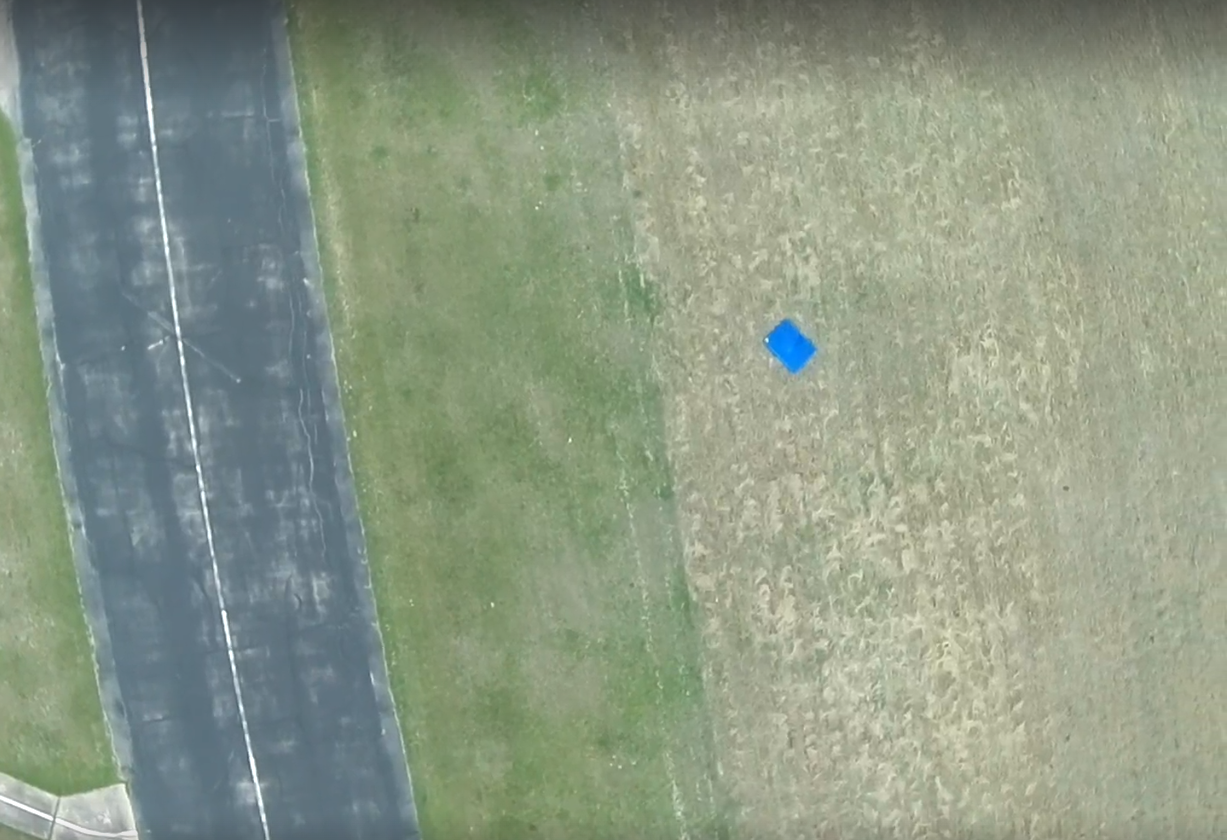TOI: (763, 317, 819, 376)
